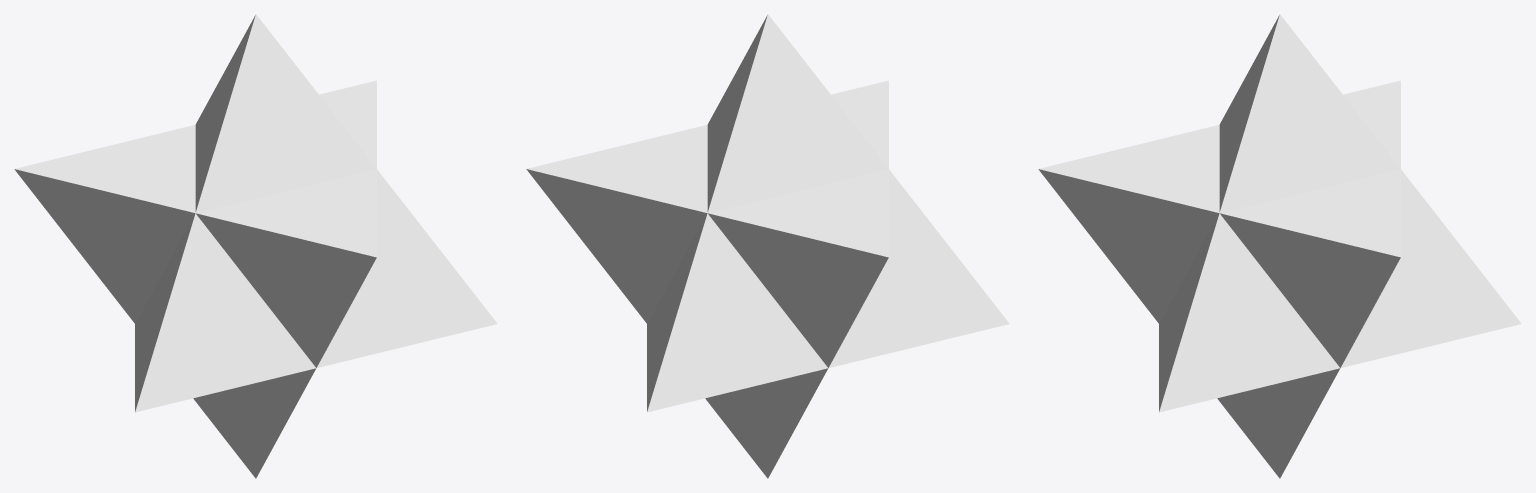
The model's file is star-tetrahedron.gltf.
3 renders of one model, left to right at view 1: azimuth 30°, elevation 25°; view 2: azimuth 150°, elevation 25°; view 3: azimuth 270°, elevation 25°, orthographic.
Visible parts, largest first — view 1: Mesh; view 2: Mesh; view 3: Mesh.
Part boxes in pixels (x1=…): Mesh: x1=14, y1=14, x2=497, y2=478; Mesh: x1=526, y1=14, x2=1009, y2=478; Mesh: x1=1038, y1=14, x2=1521, y2=478.
Bounding box in the file's own units: 4 × 4.9 × 4.62.
1 material, 1 textured.
